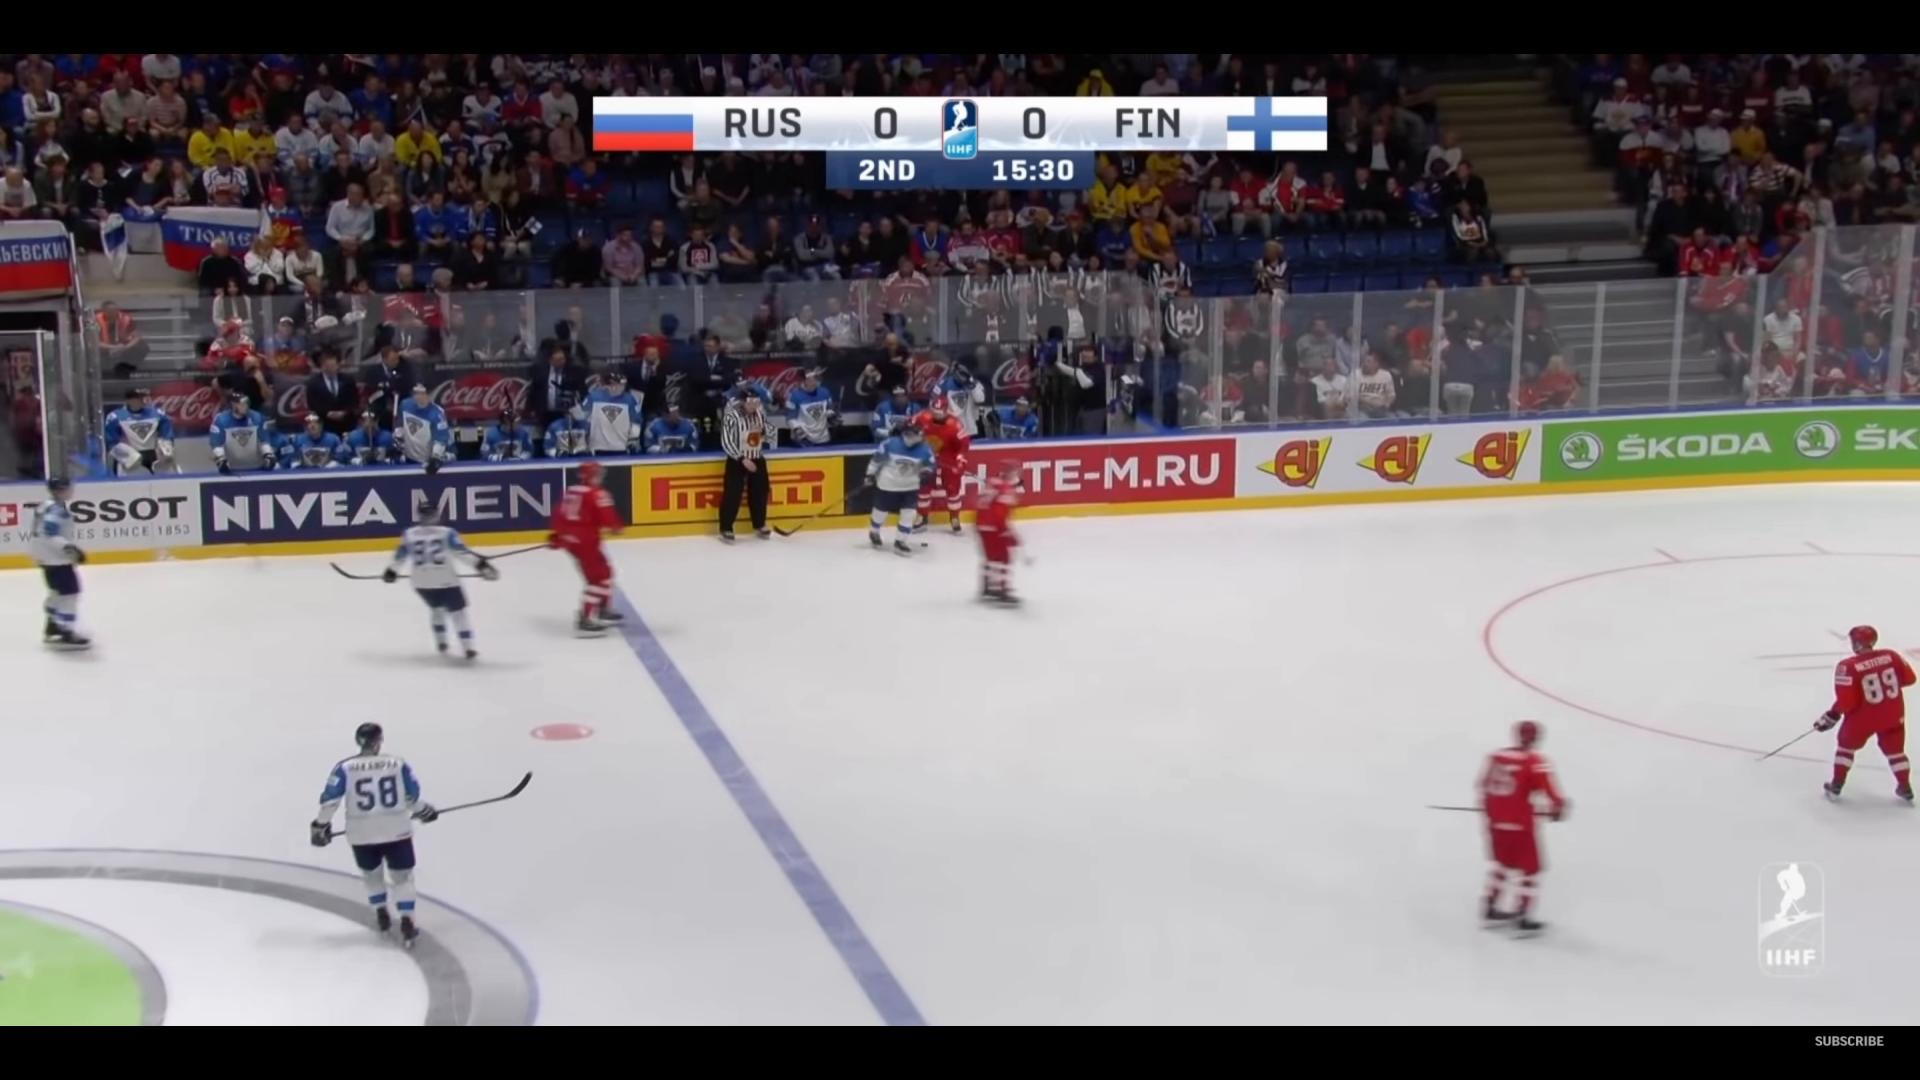puck: (919, 542, 927, 546)
